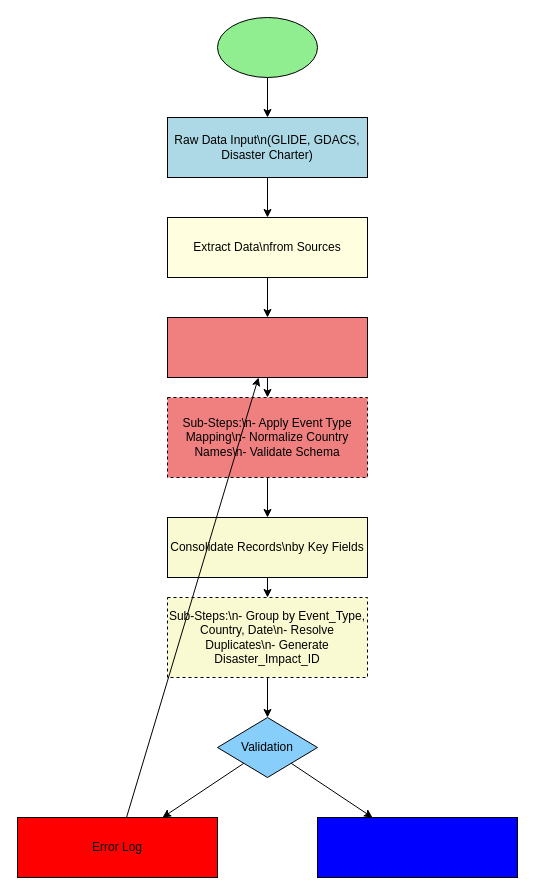
Image size: 535x895. Some labels were removed from this diagram. Here are the shapes that lost their labels. From the top down, the centre of each, then its label:
At pixel 267 47: "Start".
At pixel 267 347: "Standardize Schema\nand Values".
At pixel 417 847: "Unified Disaster Database".
